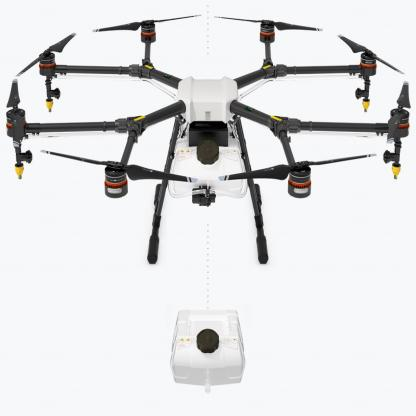drone: (1, 3, 416, 223)
